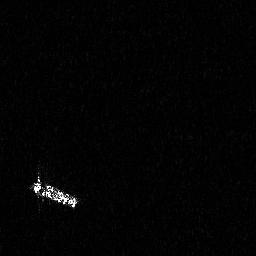ship: (28, 166, 79, 214)
